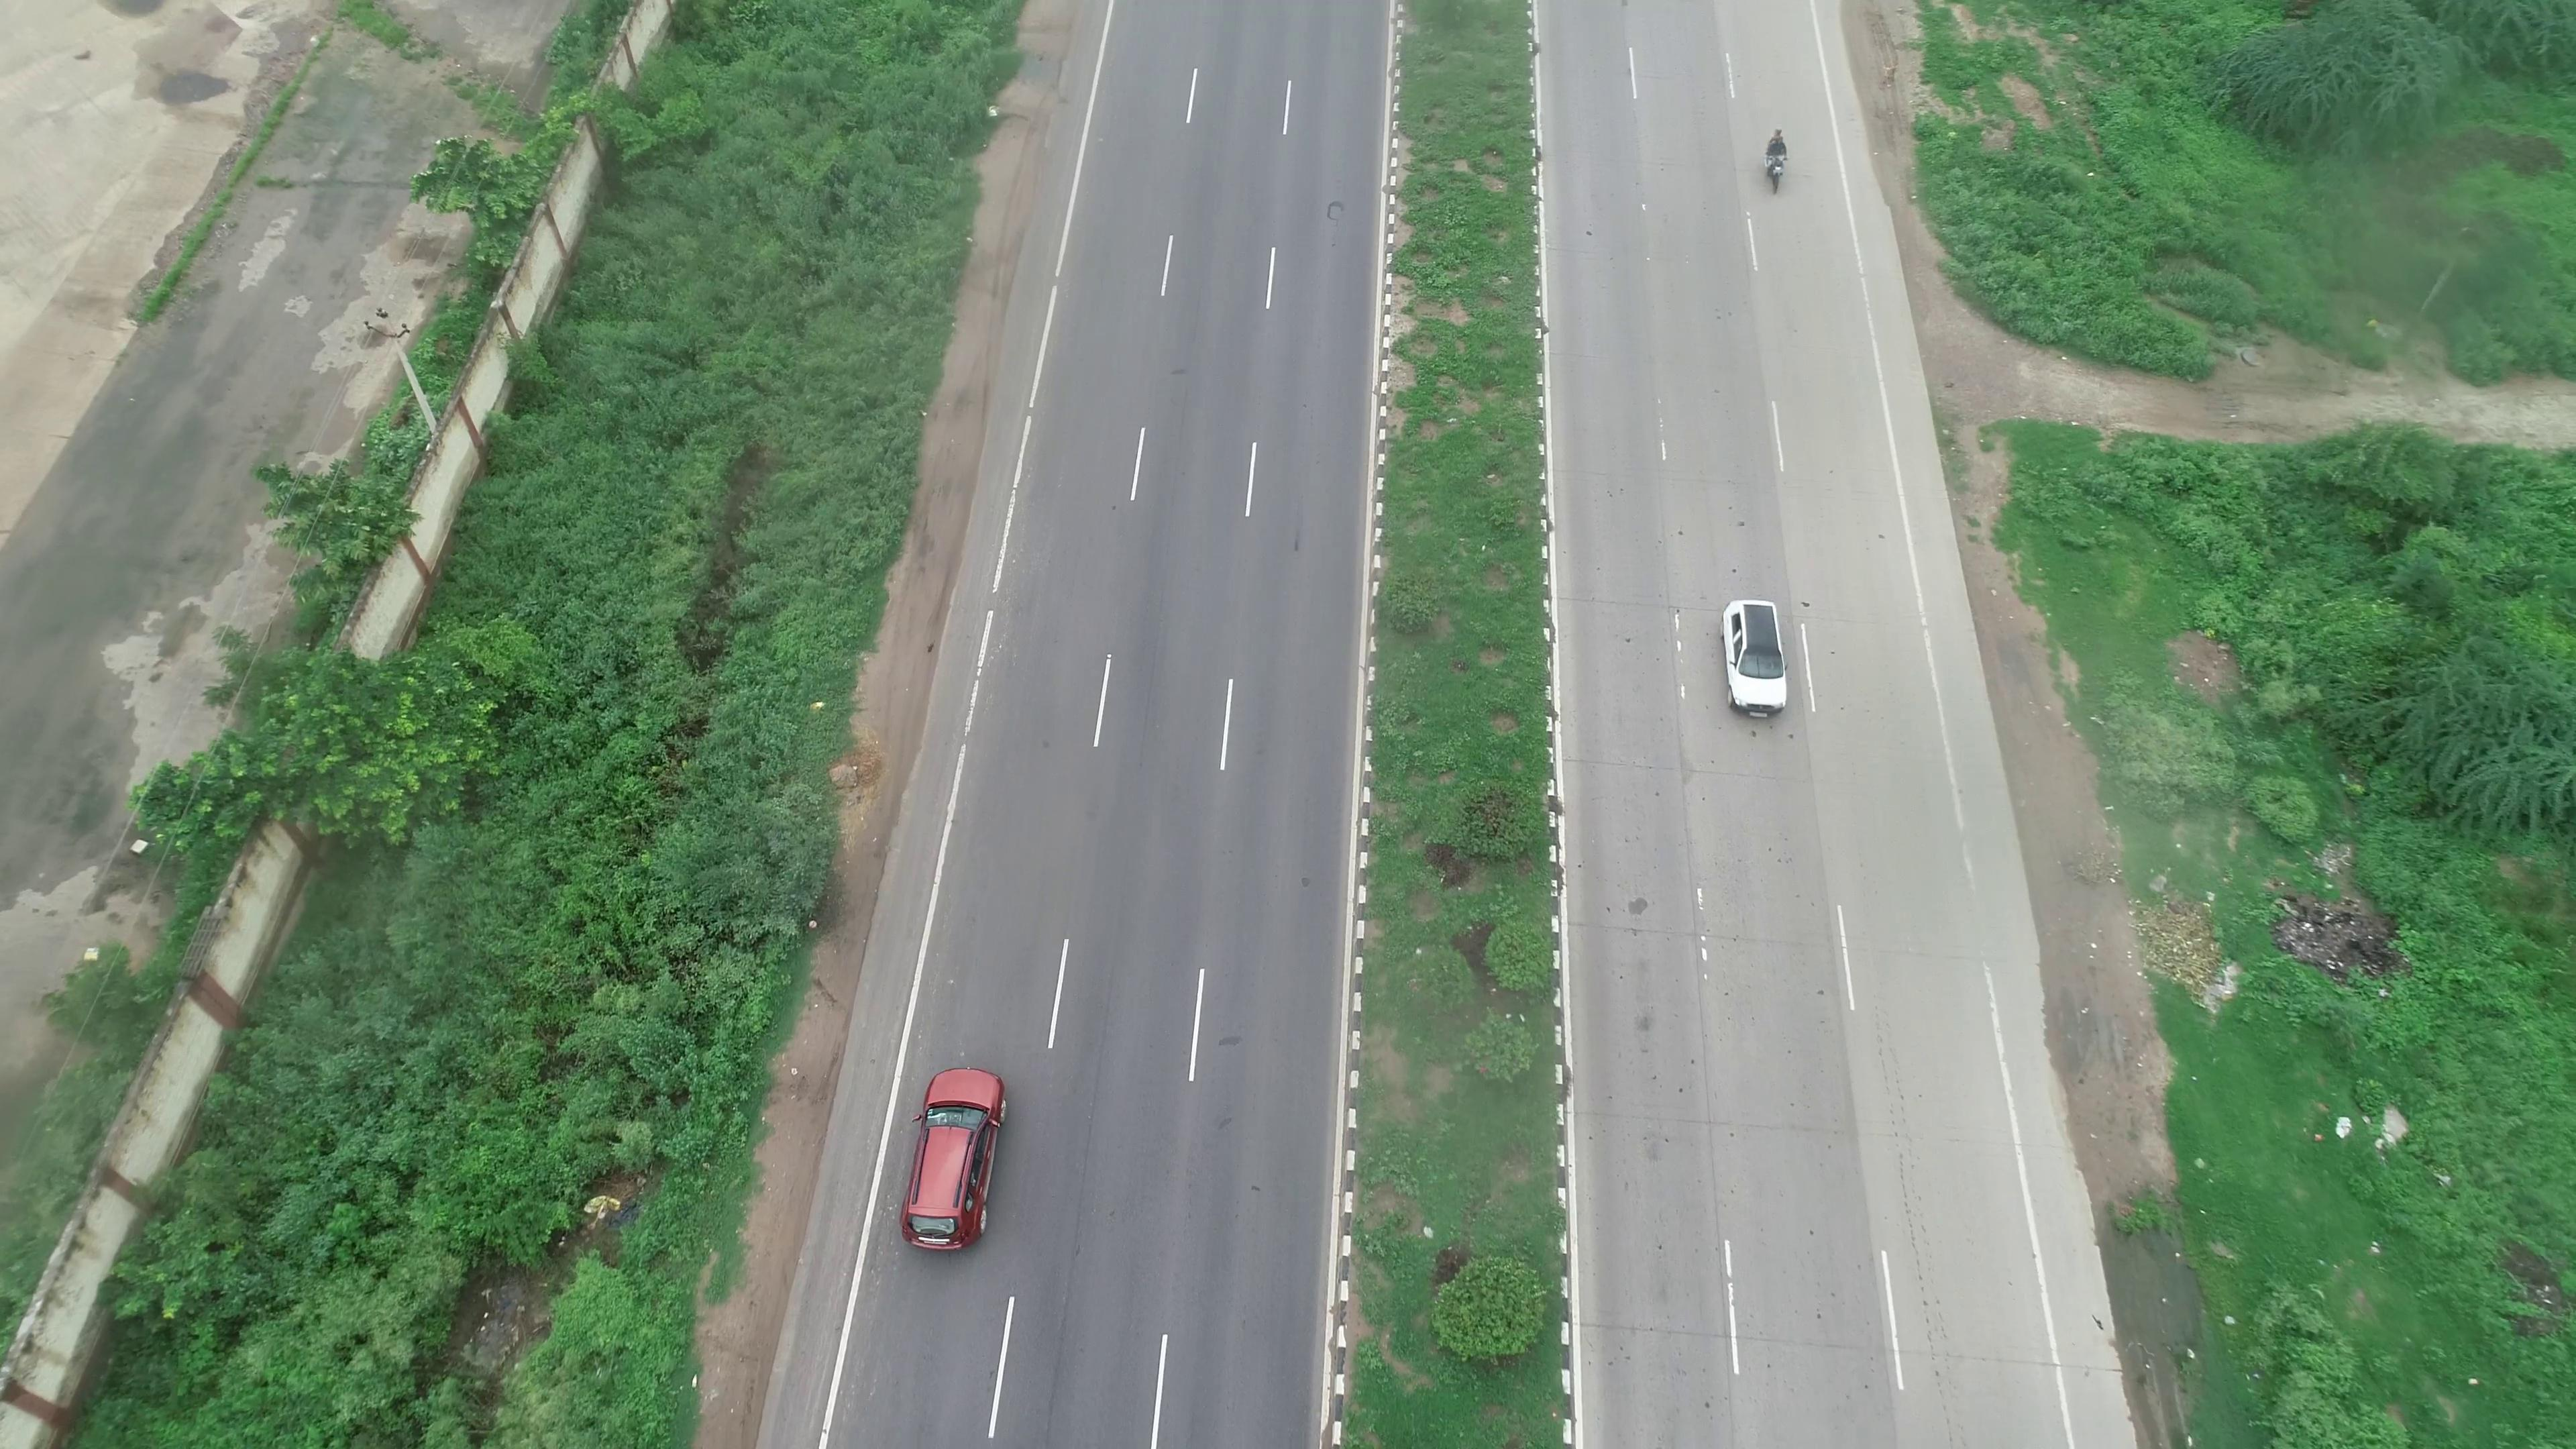Potholes: (1304, 179, 1369, 255)
